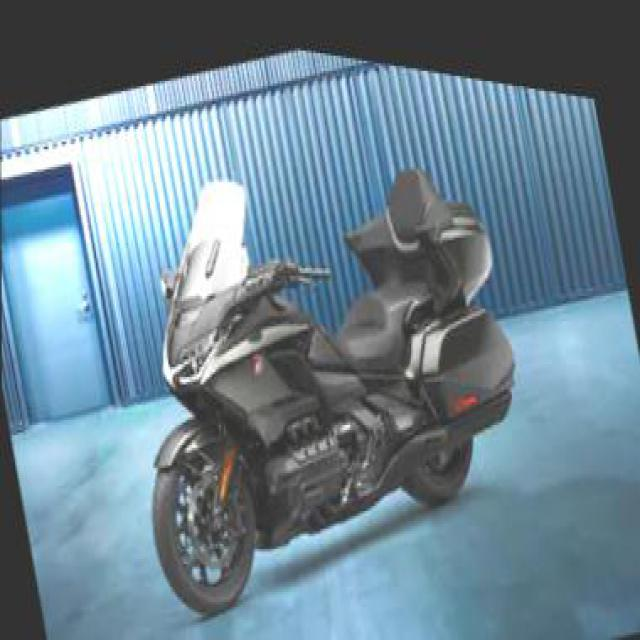Gold Wing: (92, 48, 546, 638)
